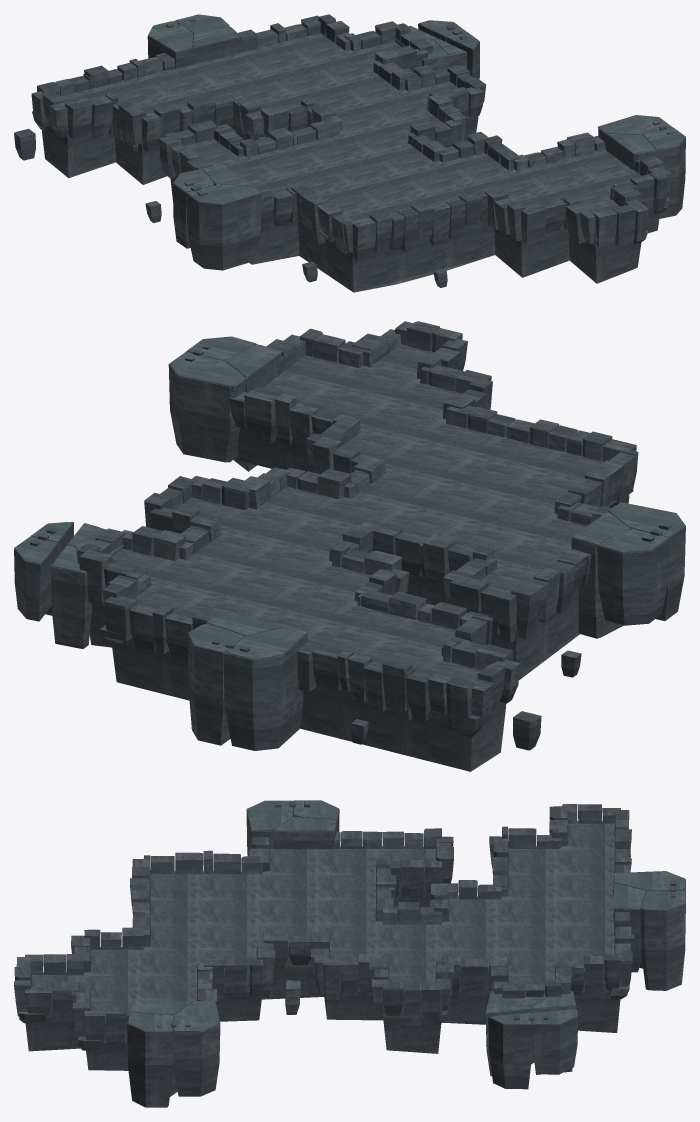
The model's file is chapter2_stage21_geology.glb.
3 renders of one model, top to bottom at view 1: azimuth 30°, elevation 25°; view 2: azimuth 150°, elevation 25°; view 3: azimuth 270°, elevation 25°, orthographic. The views are drawn at different scales.
Parts seen in each view (by area): view 1: stage21_continuous_rock_strata; view 2: stage21_continuous_rock_strata; view 3: stage21_continuous_rock_strata.
Boxes of the visible parts, <box> form: stage21_continuous_rock_strata: <box>14,14,685,292</box>; stage21_continuous_rock_strata: <box>14,321,685,771</box>; stage21_continuous_rock_strata: <box>14,800,685,1107</box>.
Size of the model in its own units: 9.87 by 1.67 by 11.27.
Materials: 2 (2 with a texture image).
